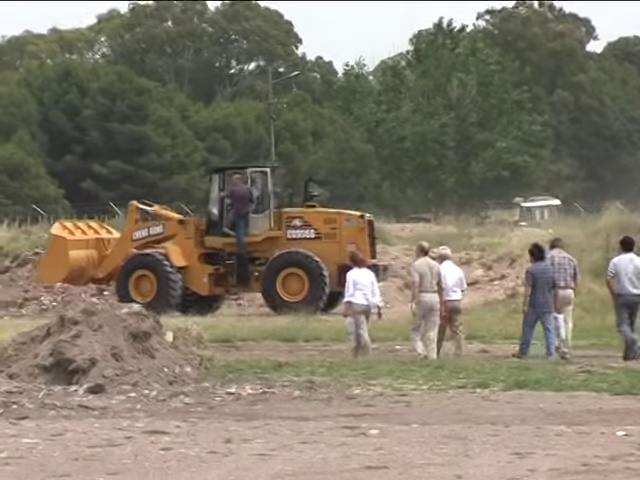person: (516, 241, 561, 362), (606, 233, 640, 362), (344, 249, 382, 361), (411, 239, 443, 363), (548, 237, 580, 359), (437, 243, 466, 357), (221, 174, 250, 258)
wheel loader: (36, 161, 391, 314)
